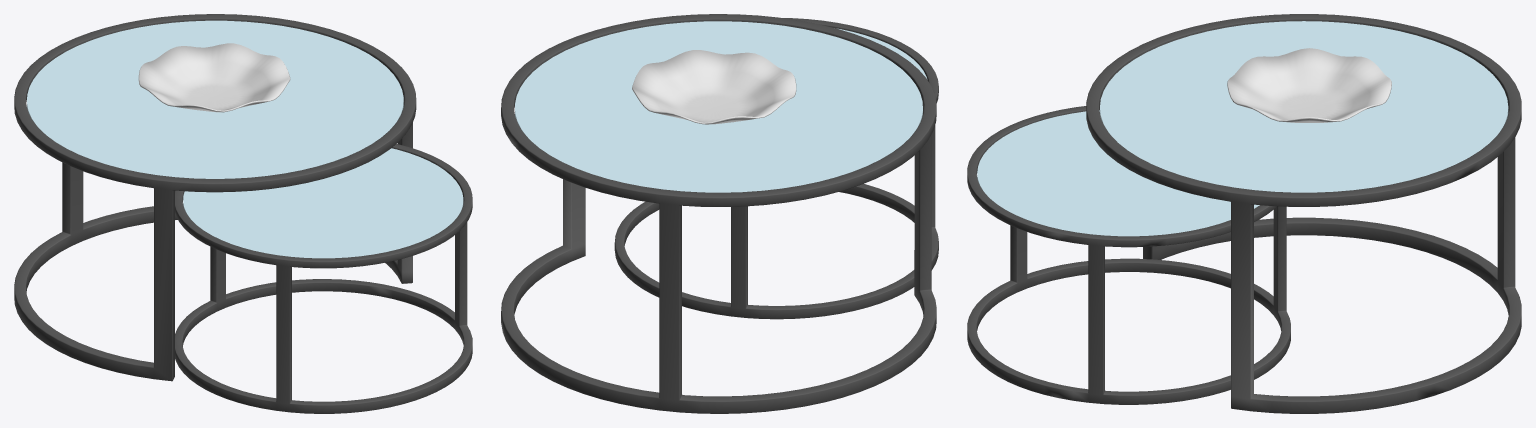
The model's file is coffee_table_modern_circular_glass_metal_lborion.glb.
3 renders of one model, left to right at view 1: azimuth 30°, elevation 25°; view 2: azimuth 150°, elevation 25°; view 3: azimuth 270°, elevation 25°, orthographic. The views are drawn at different scales.
Visible parts, largest first — view 1: Object_6, Object_4, Object_12; view 2: Object_6, Object_4, Object_12; view 3: Object_6, Object_4, Object_12.
Part boxes in pixels (x1,y1,x2,y2): Object_6: (27,20,463,258); Object_4: (14,14,472,413); Object_12: (138,43,290,112); Object_6: (515,21,927,192); Object_4: (501,14,938,413); Object_12: (632,50,796,124); Object_6: (977,21,1508,236); Object_4: (967,14,1521,413); Object_12: (1227,48,1391,122).
Size of the model in its own units: 3.13 by 1.91 by 3.98.
